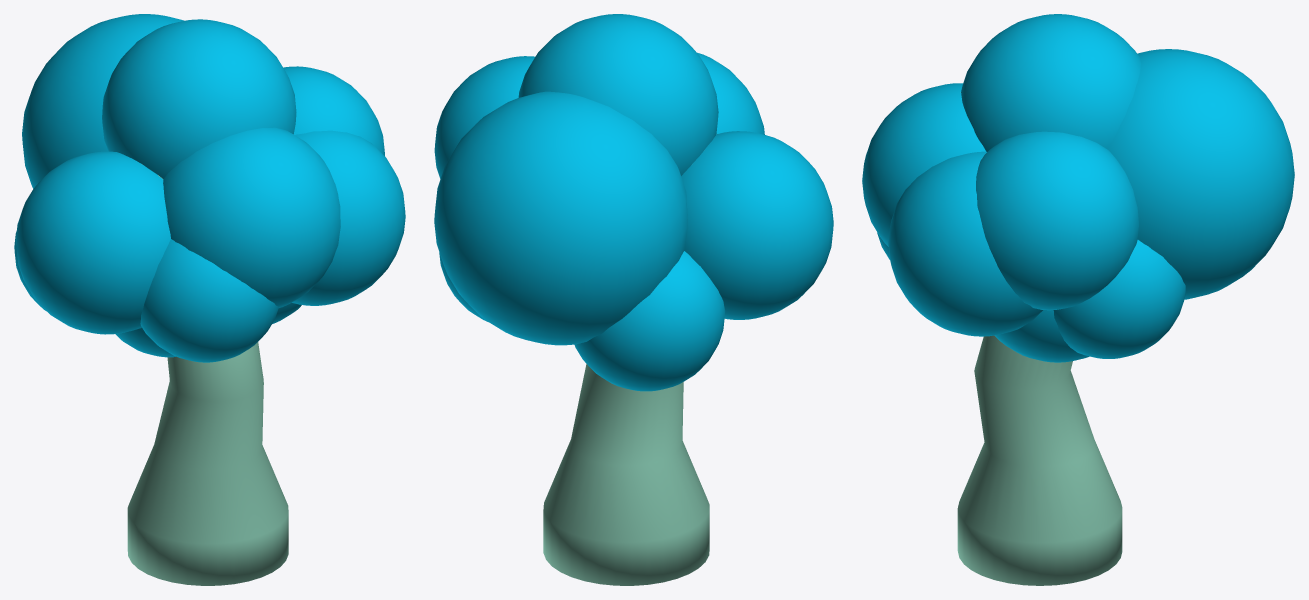
Rendered from gruetree.fbx.
3 renders of one model, left to right at view 1: azimuth 30°, elevation 25°; view 2: azimuth 150°, elevation 25°; view 3: azimuth 270°, elevation 25°, orthographic. The views are drawn at different scales.
Parts seen in each view (by area): view 1: Sphere; view 2: Sphere; view 3: Sphere.
Part boxes in pixels (bbox=[...]): Sphere: bbox=[14, 14, 405, 585]; Sphere: bbox=[434, 14, 833, 585]; Sphere: bbox=[862, 14, 1294, 585].
Bounding box in the file's own units: 192 × 268 × 199.
